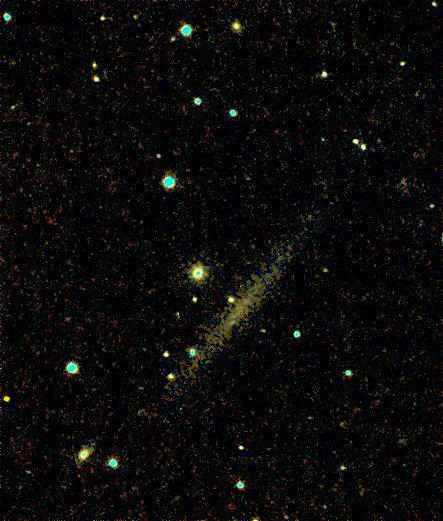star: (0, 383, 23, 413)
